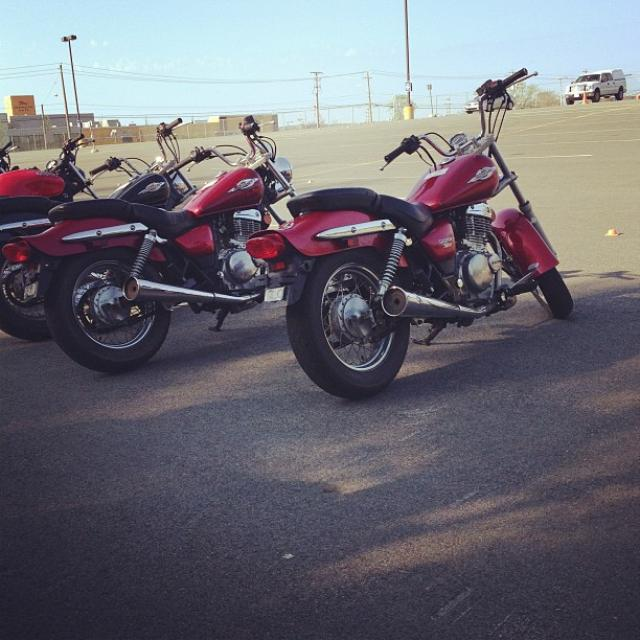motor: (244, 66, 575, 399), (33, 121, 293, 371), (0, 114, 201, 338), (0, 129, 97, 193), (0, 140, 18, 175)
